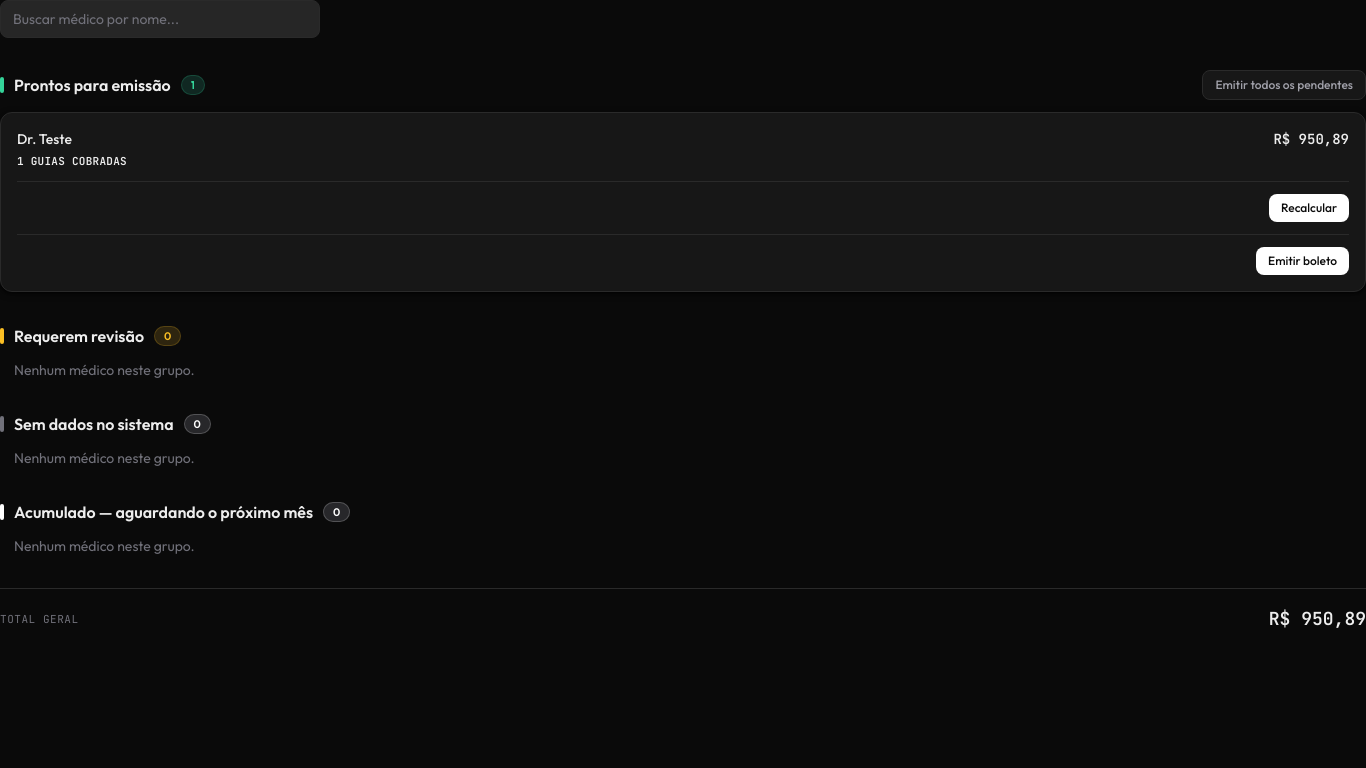
Scenario: RelatorioGrupos — emissão de boleto › mostra os campos faltantes quando a cobrança do médico está incompleta
Click the button "Emitir boleto" at (1302, 261), box [1256,247,1349,275]
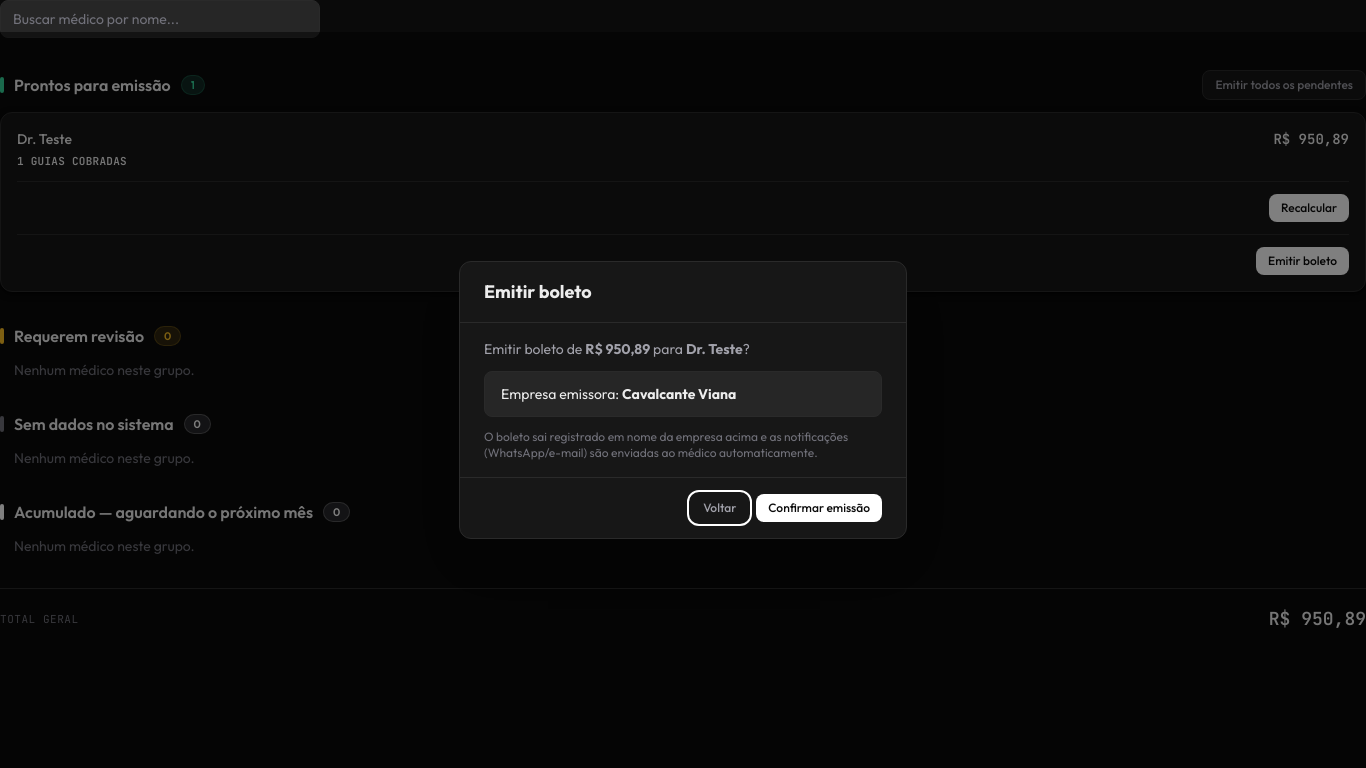
expect the text "Cavalcante Viana" is shown: met, box [622,385,736,403]
expect the button "Confirmar emissão" is enabled: met
Click the button "Confirmar emissão" at (819, 508), box [756,494,882,522]
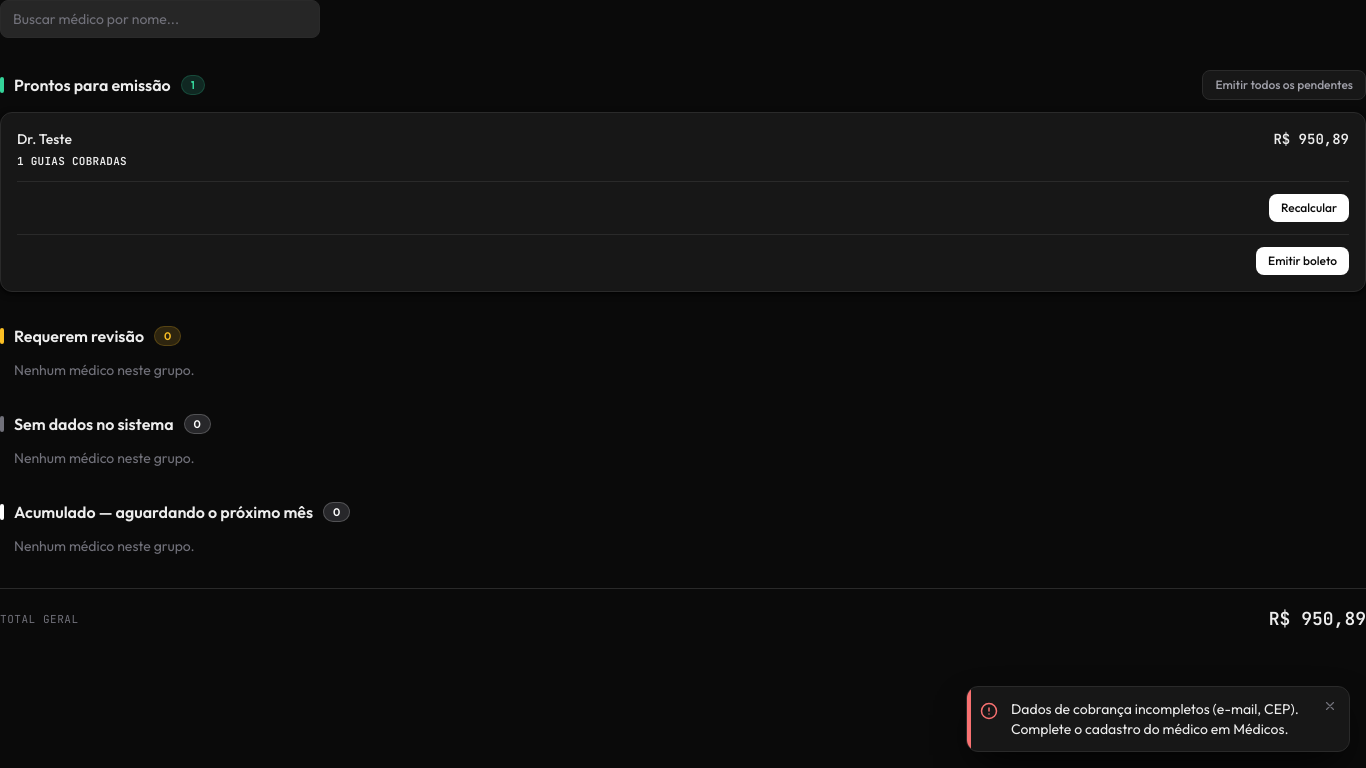
expect the button "Emitir boleto" is shown: met, box [1256,247,1349,275]
expect the text "Dados de cobrança incompletos (e-mail, CEP)" is shown: met, box [1011,700,1299,738]
